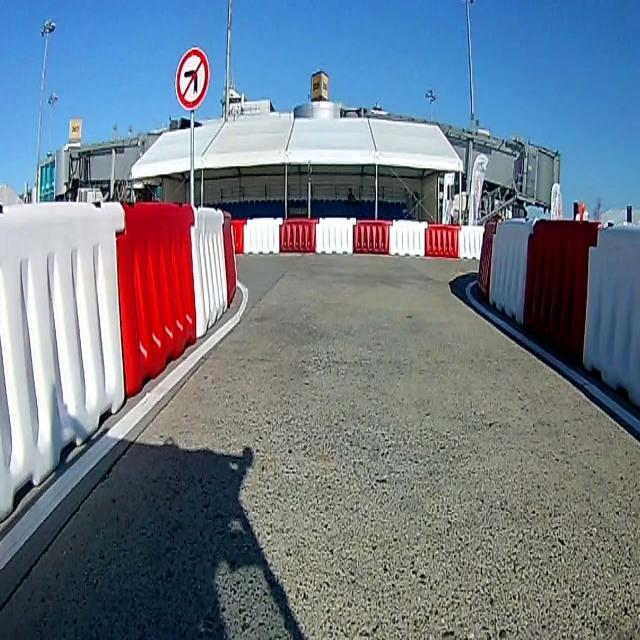soladonulmez: (174, 46, 210, 108)
